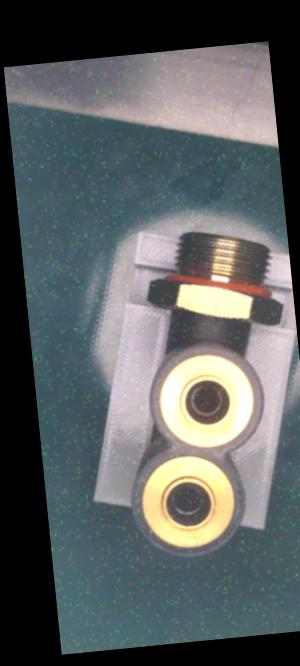craze: (206, 308, 227, 329)
